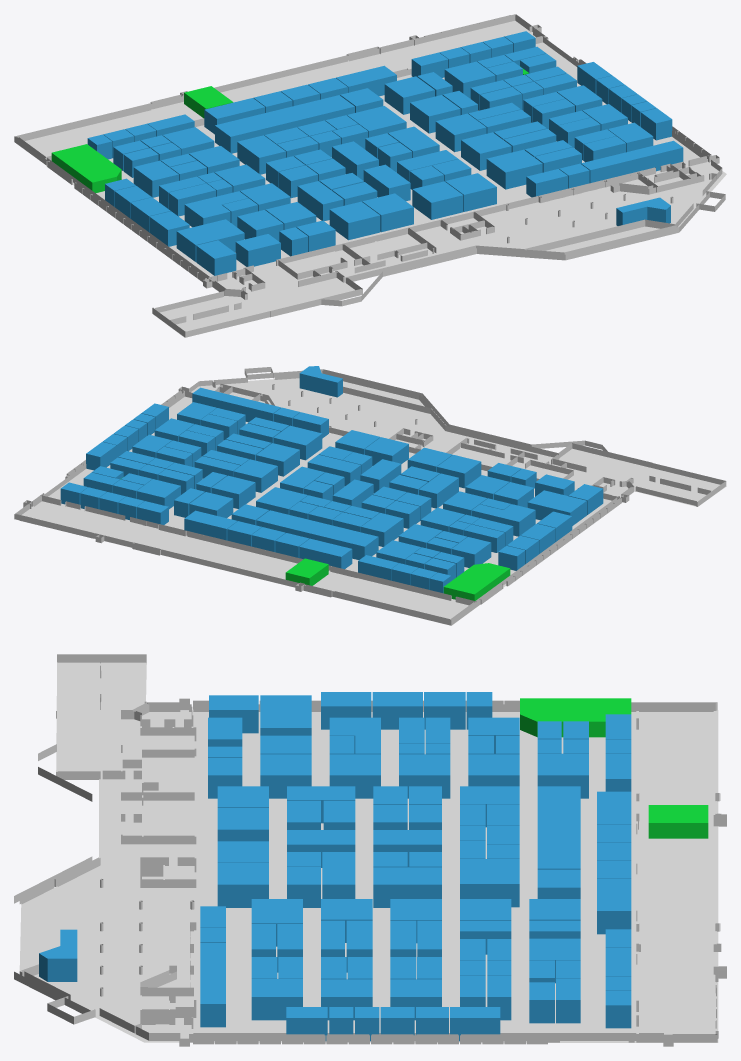
File: Hall_E_3.glb
The picture shows the model from 3 angles, top to bottom: view 1: azimuth 30°, elevation 25°; view 2: azimuth 150°, elevation 25°; view 3: azimuth 270°, elevation 25°; orthographic projection. The views are drawn at different scales.
Visible parts, largest first — view 1: Background_curve_, Building_curve_, BOOTHLAYER_curve_.028, BOOTHLAYER_curve_, DRAWINGLAYER_curve_, BOOTHLAYER_curve_.069, BOOTHLAYER_curve_.099, BOOTHLAYER_curve_.016, BOOTHLAYER_curve_.082, BOOTHLAYER_curve_.063, BOOTHLAYER_curve_.046, BOOTHLAYER_curve_.009 (+61 smaller); view 2: Background_curve_, Building_curve_, BOOTHLAYER_curve_.028, DRAWINGLAYER_curve_, BOOTHLAYER_curve_, BOOTHLAYER_curve_.099, BOOTHLAYER_curve_.063, BOOTHLAYER_curve_.021, BOOTHLAYER_curve_.069, BOOTHLAYER_curve_.025, BOOTHLAYER_curve_.110, BOOTHLAYER_curve_.046 (+58 smaller); view 3: Background_curve_, Building_curve_, BOOTHLAYER_curve_.028, DRAWINGLAYER_curve_, BOOTHLAYER_curve_.032, BOOTHLAYER_curve_.045, BOOTHLAYER_curve_, BOOTHLAYER_curve_.017, BOOTHLAYER_curve_.099, BOOTHLAYER_curve_.109, BOOTHLAYER_curve_.073, BOOTHLAYER_curve_.064 (+68 smaller).
Part boxes in pixels (x1,y1,x2,y2): Background_curve_: (14, 20, 726, 337); Building_curve_: (14, 14, 725, 337); BOOTHLAYER_curve_.028: (215, 95, 354, 153); BOOTHLAYER_curve_: (581, 140, 683, 183); DRAWINGLAYER_curve_: (51, 66, 528, 192); BOOTHLAYER_curve_.069: (486, 149, 542, 189); BOOTHLAYER_curve_.099: (176, 219, 244, 261); BOOTHLAYER_curve_.016: (412, 181, 463, 219); BOOTHLAYER_curve_.082: (329, 201, 380, 240); BOOTHLAYER_curve_.063: (184, 191, 248, 227); BOOTHLAYER_curve_.046: (435, 113, 486, 152); BOOTHLAYER_curve_.009: (362, 193, 413, 232); Background_curve_: (15, 378, 726, 625); Building_curve_: (14, 367, 726, 625); BOOTHLAYER_curve_.028: (256, 510, 378, 559); DRAWINGLAYER_curve_: (120, 478, 510, 600); BOOTHLAYER_curve_: (192, 387, 281, 422); BOOTHLAYER_curve_.099: (527, 490, 586, 525); BOOTHLAYER_curve_.063: (471, 504, 535, 536); BOOTHLAYER_curve_.021: (299, 538, 352, 569); BOOTHLAYER_curve_.069: (273, 425, 322, 460); BOOTHLAYER_curve_.025: (184, 510, 237, 540); BOOTHLAYER_curve_.110: (299, 366, 342, 397); BOOTHLAYER_curve_.046: (233, 459, 277, 492); Background_curve_: (19, 662, 718, 1042); Building_curve_: (14, 654, 726, 1046); BOOTHLAYER_curve_.028: (537, 786, 580, 869); DRAWINGLAYER_curve_: (520, 698, 631, 737); BOOTHLAYER_curve_.032: (460, 859, 519, 907); BOOTHLAYER_curve_.045: (373, 867, 441, 907); BOOTHLAYER_curve_: (200, 942, 225, 1027); BOOTHLAYER_curve_.017: (217, 863, 268, 907); BOOTHLAYER_curve_.099: (260, 695, 311, 735); BOOTHLAYER_curve_.109: (648, 805, 708, 838); BOOTHLAYER_curve_.073: (251, 979, 302, 1020); BOOTHLAYER_curve_.064: (329, 754, 380, 798).
Bounding box in the file's own units: 106 × 3 × 83.28.
